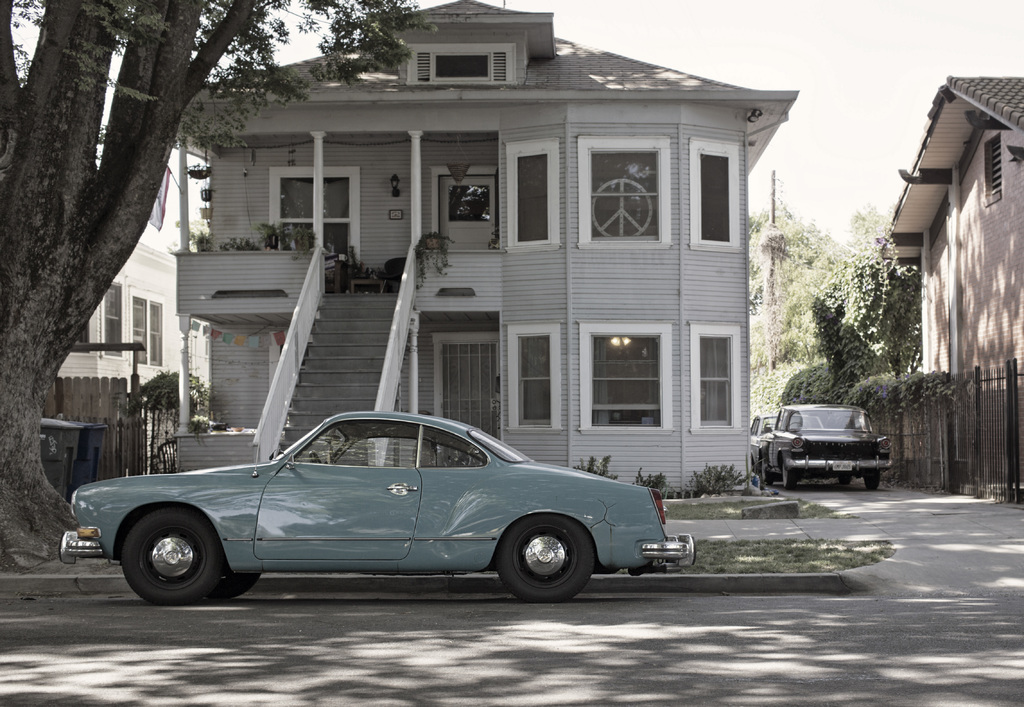Car: (58, 412, 695, 605), (759, 403, 894, 492), (748, 412, 824, 477)
